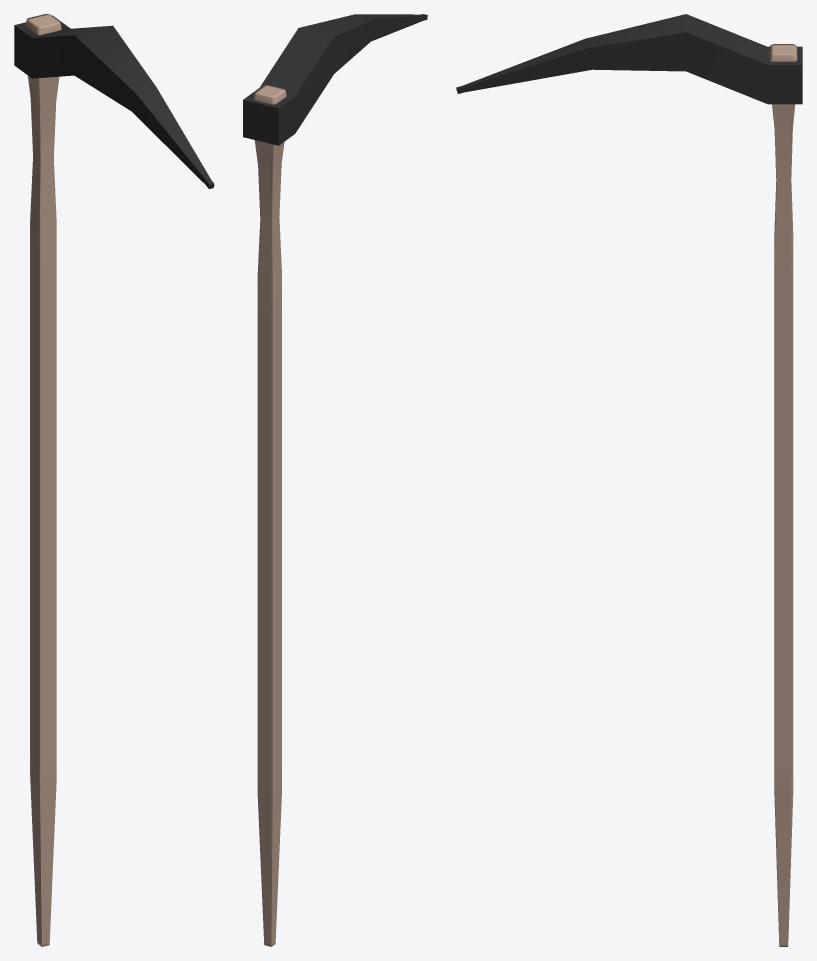
Rendered from Scythe 1.fbx.
3 renders of one model, left to right at view 1: azimuth 30°, elevation 25°; view 2: azimuth 150°, elevation 25°; view 3: azimuth 270°, elevation 25°, orthographic. The views are drawn at different scales.
Visible parts, largest first — view 1: polySurface1; view 2: polySurface1; view 3: polySurface1.
Boxes of the visible parts, x1=… form: polySurface1: x1=14, y1=14, x2=214, y2=946; polySurface1: x1=243, y1=14, x2=427, y2=946; polySurface1: x1=456, y1=14, x2=802, y2=946.
Bounding box in the file's own units: 1.48 × 34.79 × 11.83.
